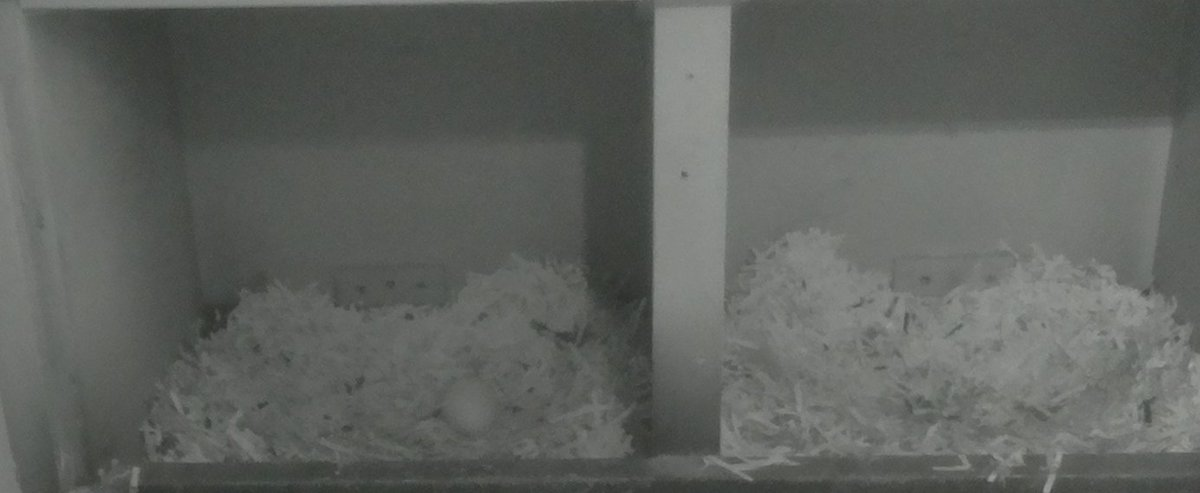egg: (433, 368, 508, 444)
